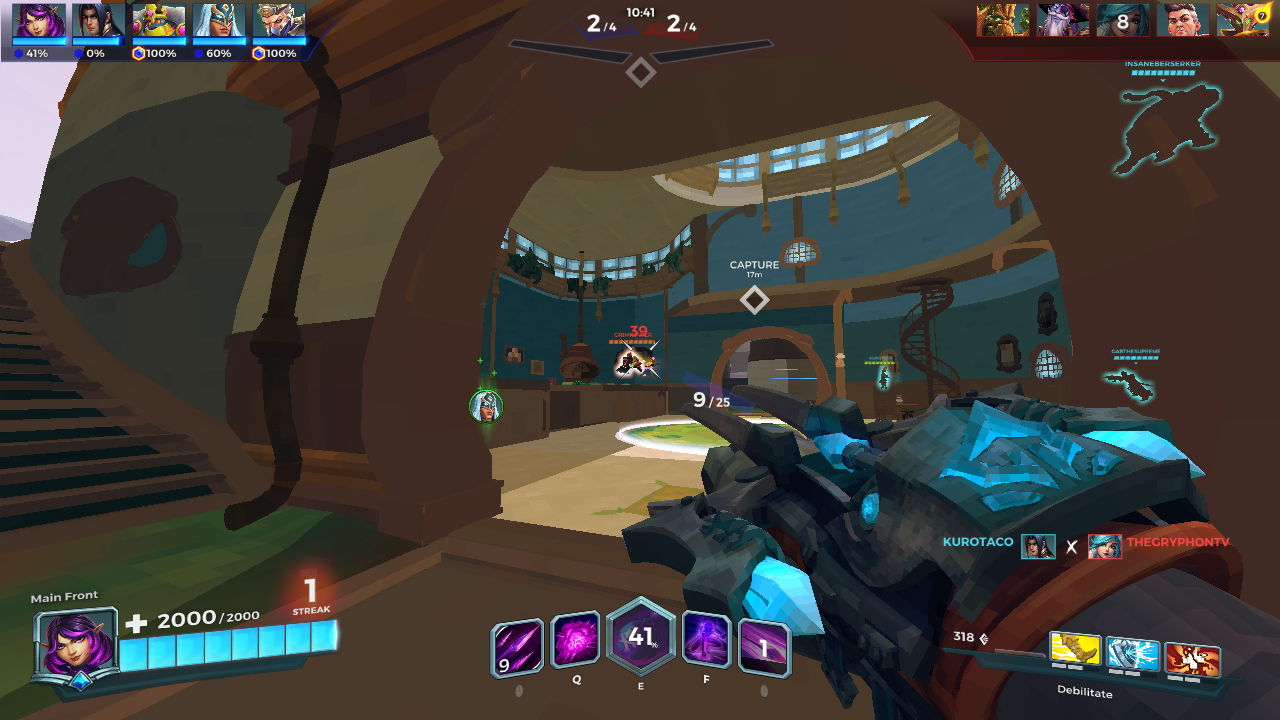model: (615, 349, 649, 378)
